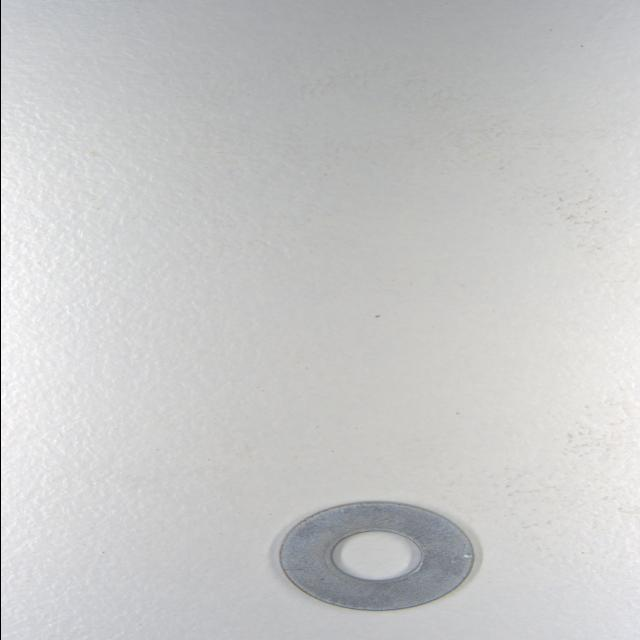washer: (276, 500, 478, 612)
